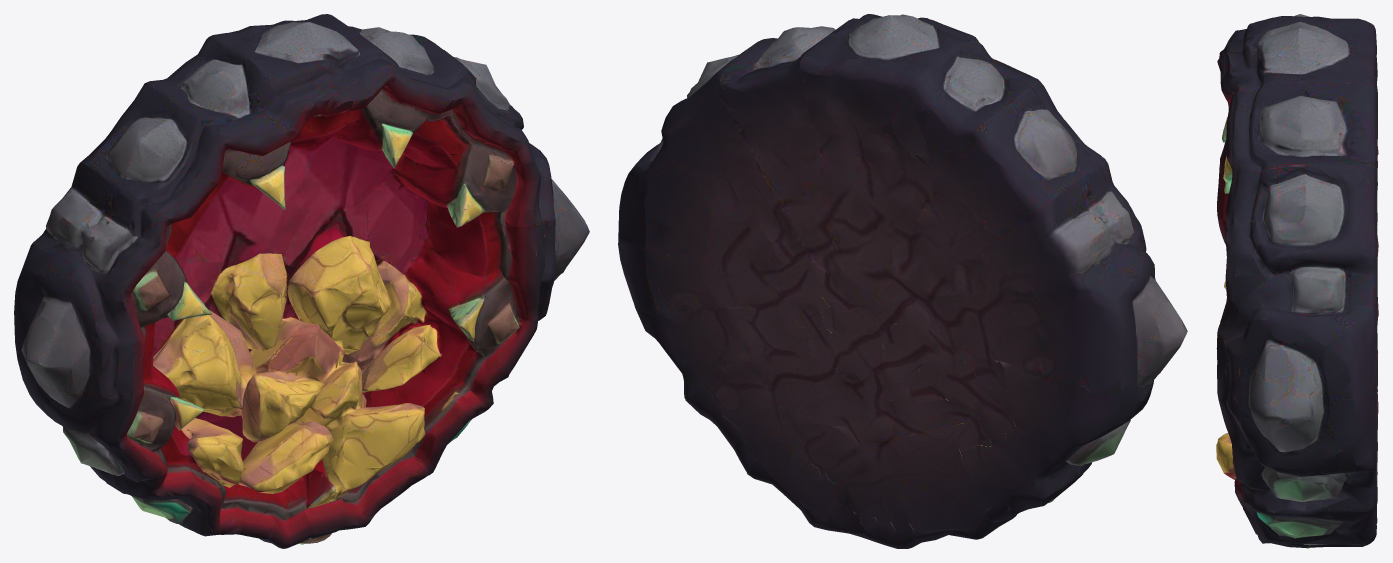
Rendered from refrain.glb.
3 renders of one model, left to right at view 1: azimuth 30°, elevation 25°; view 2: azimuth 150°, elevation 25°; view 3: azimuth 270°, elevation 25°, orthographic.
Visible parts, largest first — view 1: Mesh_0; view 2: Mesh_0; view 3: Mesh_0.
Boxes of the visible parts, x1,y1,x2,y2 form: Mesh_0: [14, 14, 589, 548]; Mesh_0: [618, 14, 1187, 548]; Mesh_0: [1216, 14, 1378, 548].
Bounding box in the file's own units: 1.9 × 1.71 × 0.4825.
Materials: 1 (1 with a texture image).
